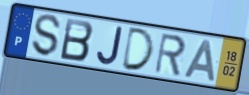A: (182, 38, 216, 83)
B: (59, 17, 95, 63)
D: (120, 25, 156, 73)
J: (95, 25, 125, 67)
R: (153, 32, 188, 78)
S: (31, 13, 62, 59)
